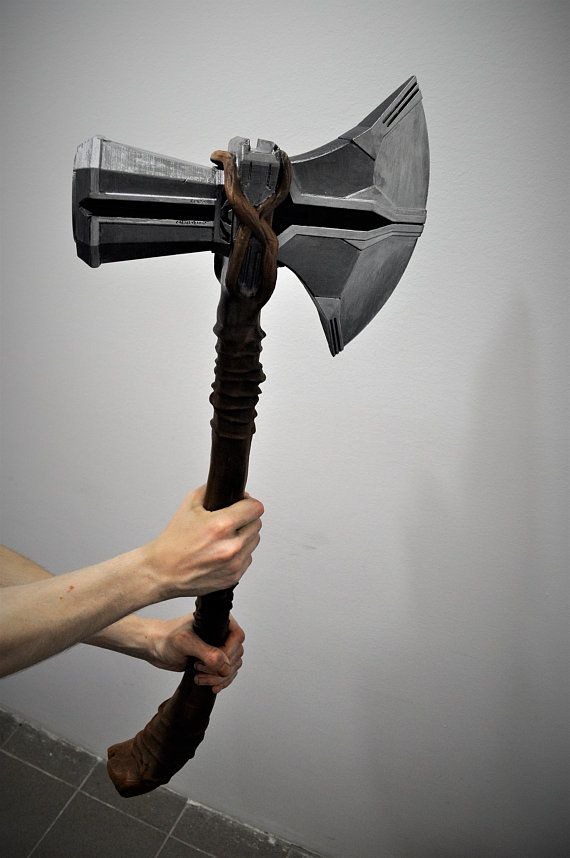THOR Hammer: (69, 75, 436, 820)
